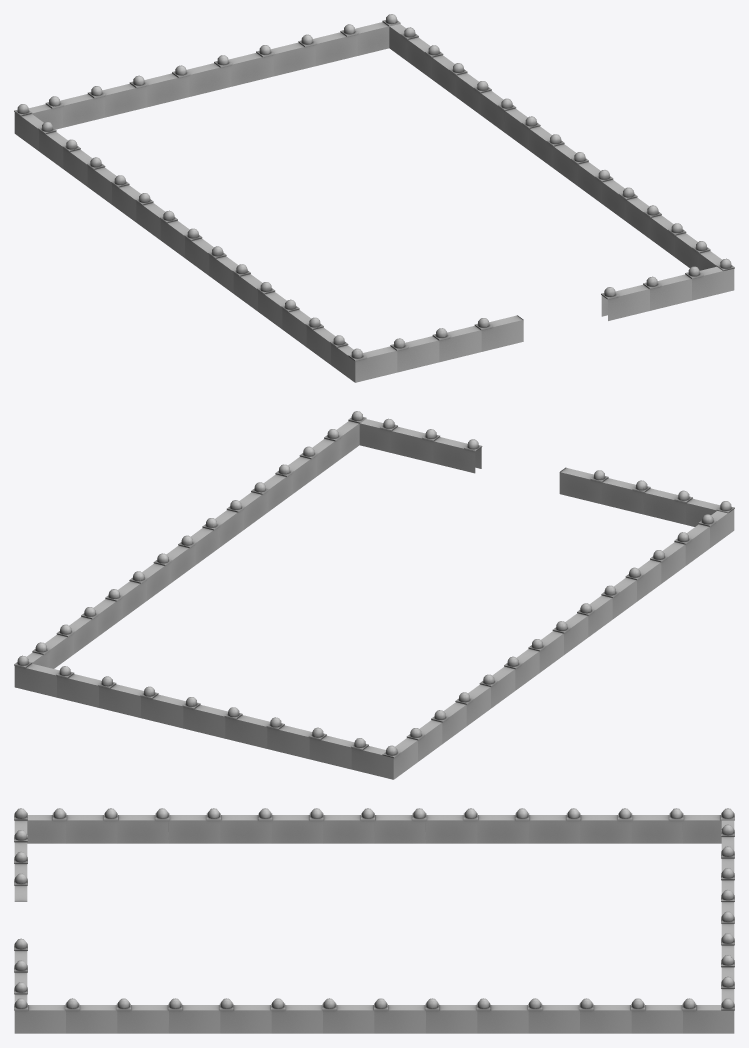
Rendered from Walls.fbx.
3 views of the same model, one above another, from view 1: azimuth 30°, elevation 25°; view 2: azimuth 150°, elevation 25°; view 3: azimuth 270°, elevation 25° (orthographic). The views are drawn at different scales.
Parts seen in each view (by area): view 1: Fence, Fence.003, Fence.001, Fence.004, Fence.002; view 2: Fence, Fence.001, Fence.003, Fence.004, Fence.002; view 3: Fence.003, Fence, Fence.001, Fence.004, Fence.002.
Boxes of the visible parts, x1,y1,x2,y2 form: Fence: (14,104,355,382); Fence.003: (389,24,734,271); Fence.001: (28,14,400,129); Fence.004: (348,315,523,382); Fence.002: (601,266,734,320); Fence: (382,509,734,779); Fence.001: (14,655,393,779); Fence.003: (27,411,366,668); Fence.004: (559,467,734,526); Fence.002: (359,418,482,473); Fence.003: (14,998,734,1033); Fence: (27,808,734,843); Fence.001: (721,820,734,1010); Fence.004: (14,808,27,901); Fence.002: (14,938,27,1003).
Size of the model in its own units: 17.33 by 1.32 by 26.93.
